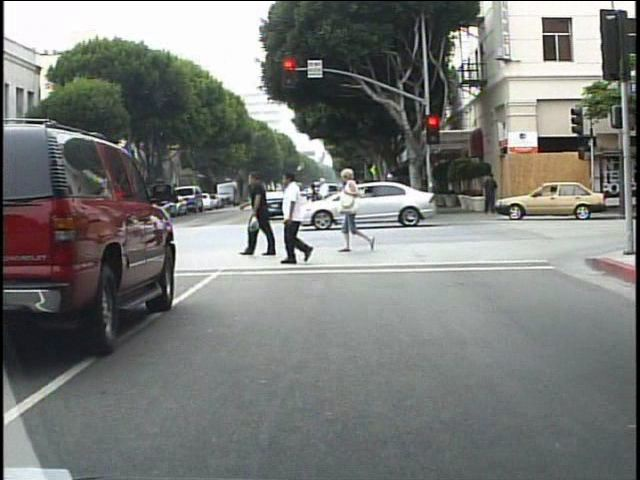person: (278, 172, 324, 270), (244, 169, 285, 263), (339, 165, 374, 255), (379, 166, 401, 226), (317, 175, 338, 223), (305, 180, 326, 225), (359, 177, 378, 223), (480, 170, 498, 217), (151, 181, 167, 232), (119, 182, 136, 228), (4, 193, 21, 238), (6, 198, 22, 236)
